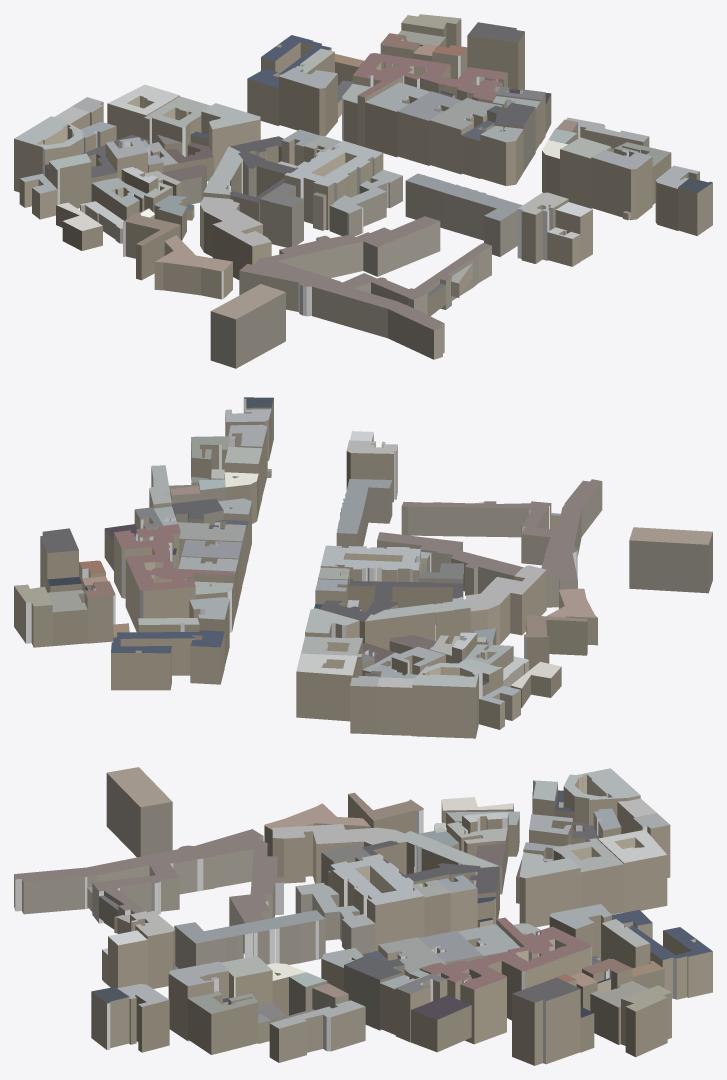
3 renders of one model, top to bottom at view 1: azimuth 30°, elevation 25°; view 2: azimuth 150°, elevation 25°; view 3: azimuth 270°, elevation 25°, orthographic. The views are drawn at different scales.
Parts seen in each view (by area): view 1: tuile; view 2: tuile; view 3: tuile.
Boxes of the visible parts, x1=… form: tuile: x1=14, y1=14, x2=712, y2=368; tuile: x1=14, y1=397, x2=712, y2=738; tuile: x1=14, y1=767, x2=712, y2=1065.
Bounding box in the file's own units: 274 × 38.89 × 303.
